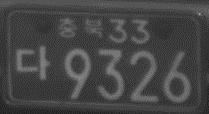2: (129, 49, 160, 103)
3: (97, 48, 126, 101), (130, 19, 150, 44), (108, 18, 127, 42)
6: (163, 51, 191, 103)
9: (63, 47, 91, 99)
다: (14, 45, 51, 81)
충북_O: (58, 16, 103, 39)
